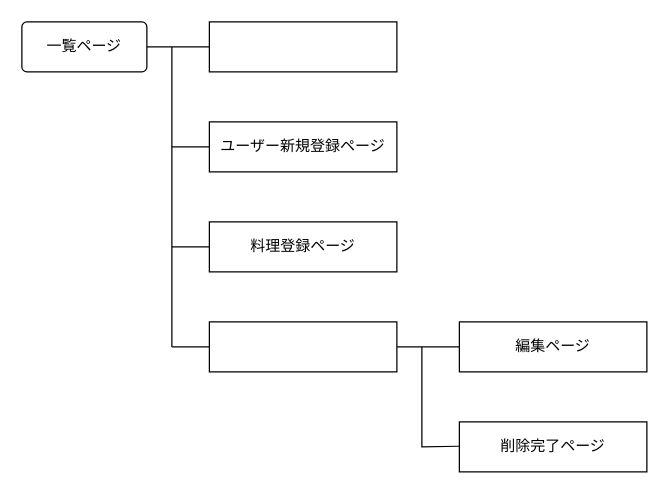
Image size: 669x494. Some labels were removed from this diagram. The shapes that lost their labels are listed below. From the top down, each one's box as (x1, y1, x2, y2) in pixels, then its label:
(208, 21, 397, 72): ユーザーログインページ
(208, 321, 397, 372): 料理詳細ページ
